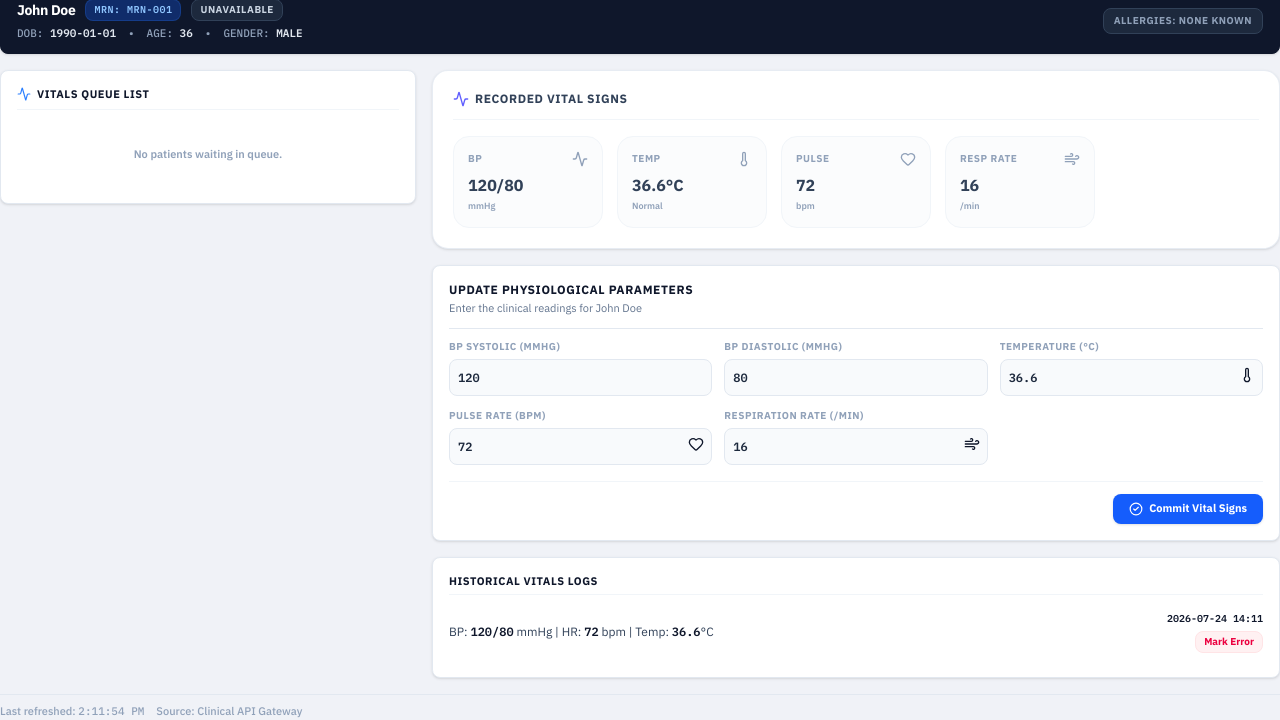
Scenario: NurseVitalsPage Correction Workflow › shows error message in modal when correction fails
This screenshot has width=1280, height=720.
(page scrolled)
Click the button labelled "Mark Error" at (1229, 642), box [1195,631,1263,653]
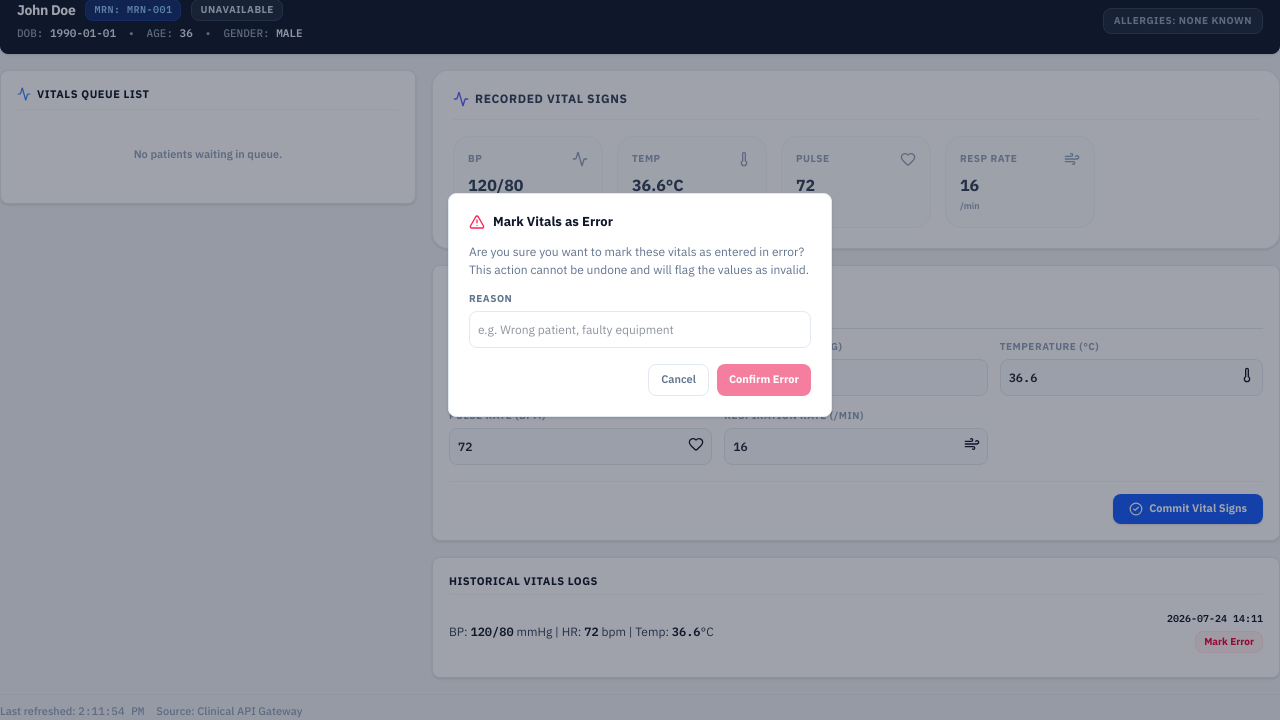
Type "Test error" into the field labelled "Reason" at (640, 329), box [469,311,811,348]
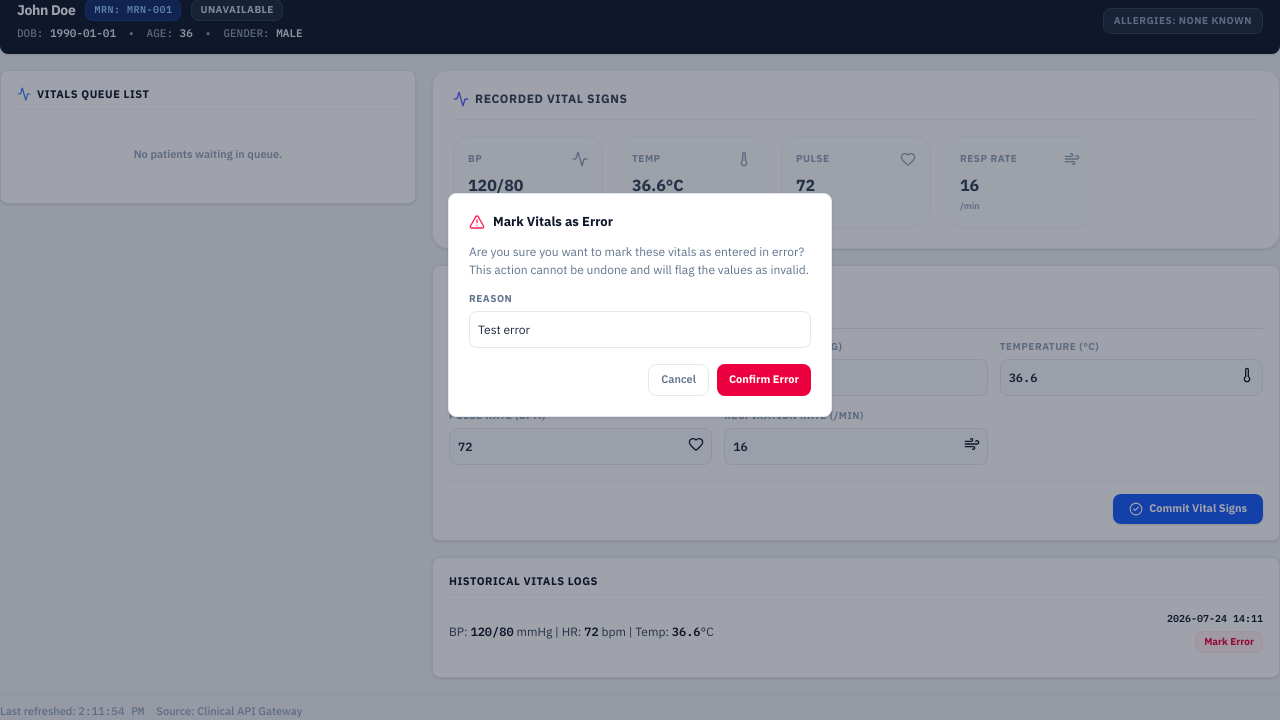
Click the button "Confirm Error" at (764, 380), box [717,364,811,396]
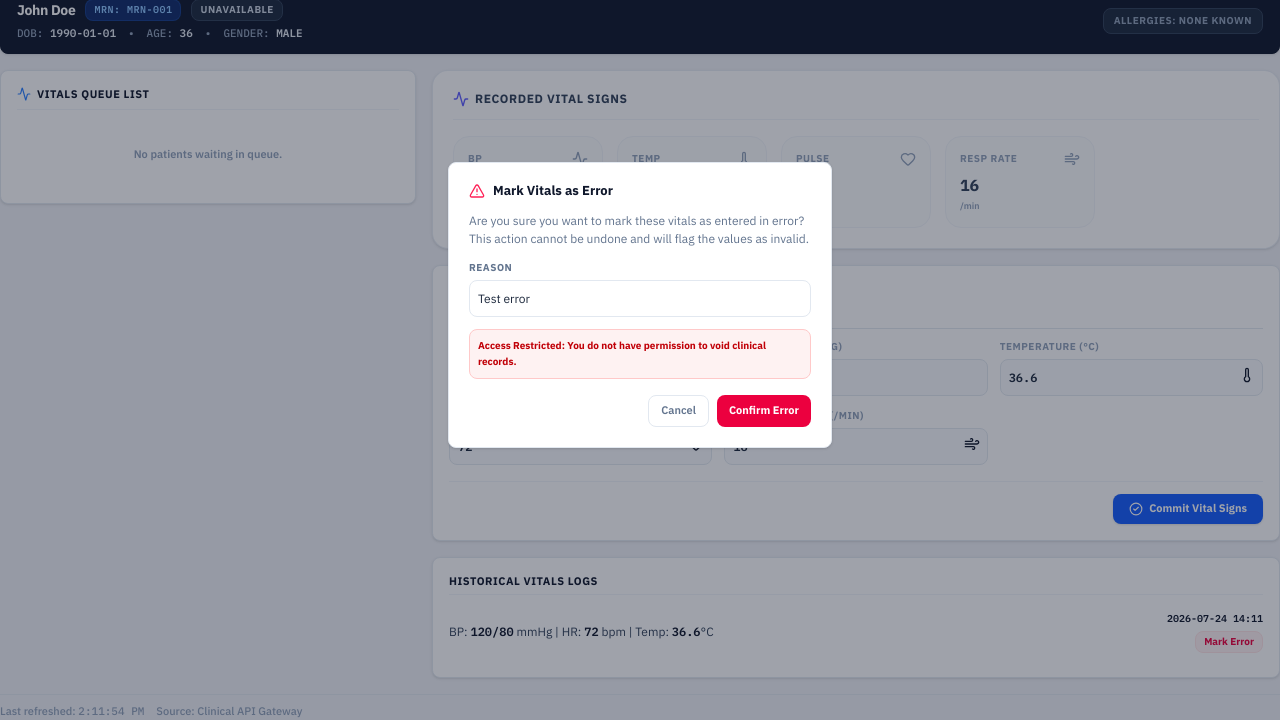
Expected: the text "Access Restricted" is shown, [478,339,766,368]
